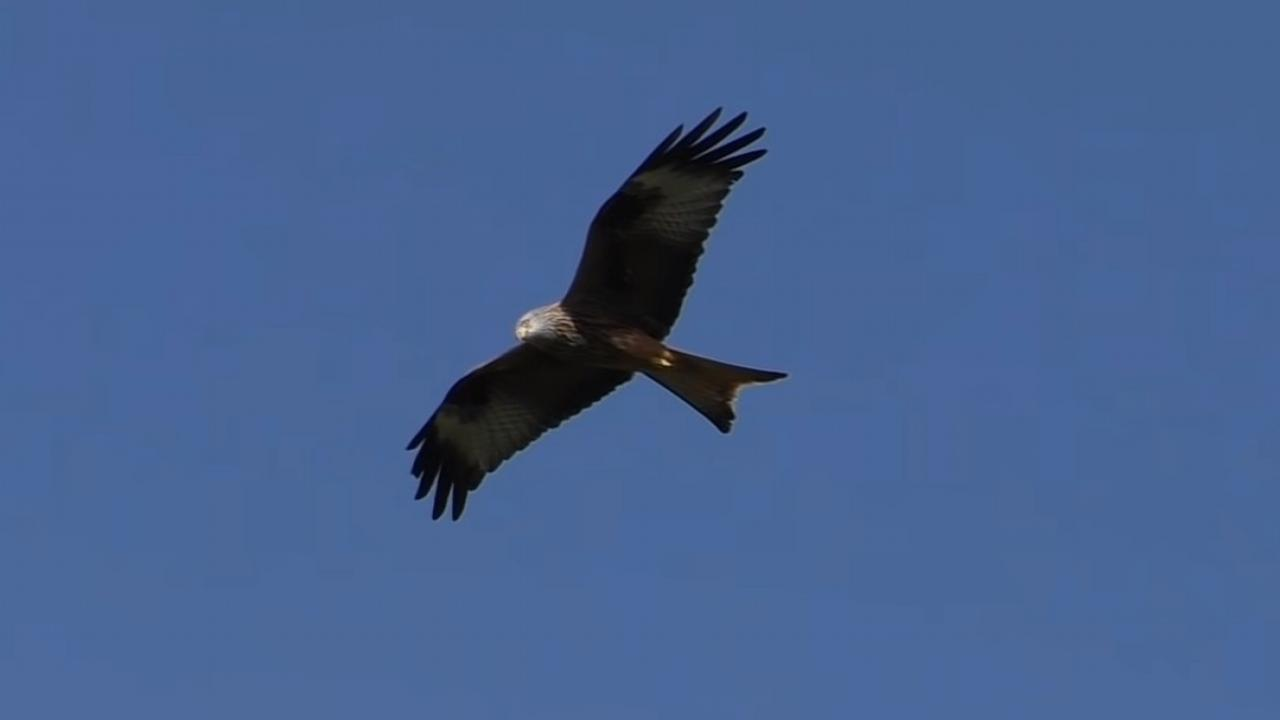Bird: (398, 100, 800, 531)
